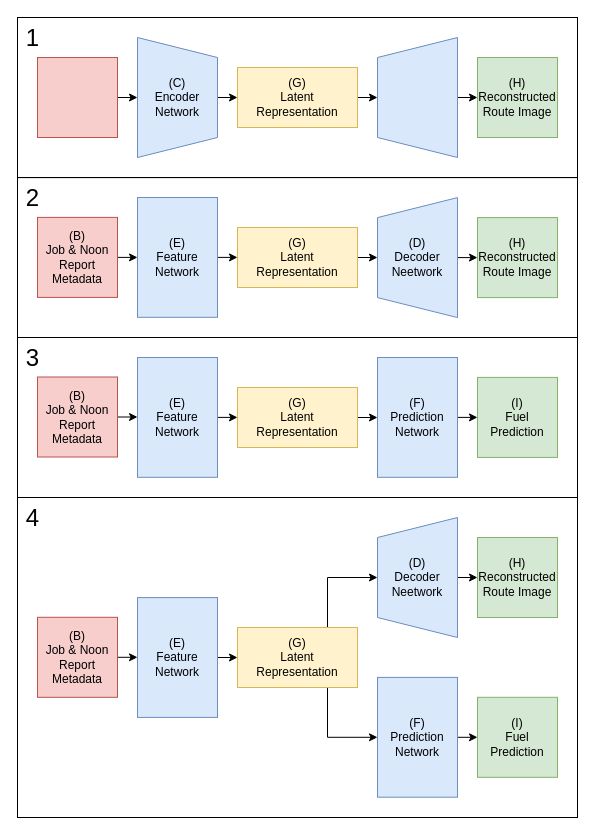
Some shapes in this 595 by 835 pixel diagram are drawn without their labels. Here are the shapes that lost their labels. From the top down, the centre of each, then its label:
At point (77, 97): "(A) Original Route Image".
At point (417, 97): "(D) Decoder Network".
